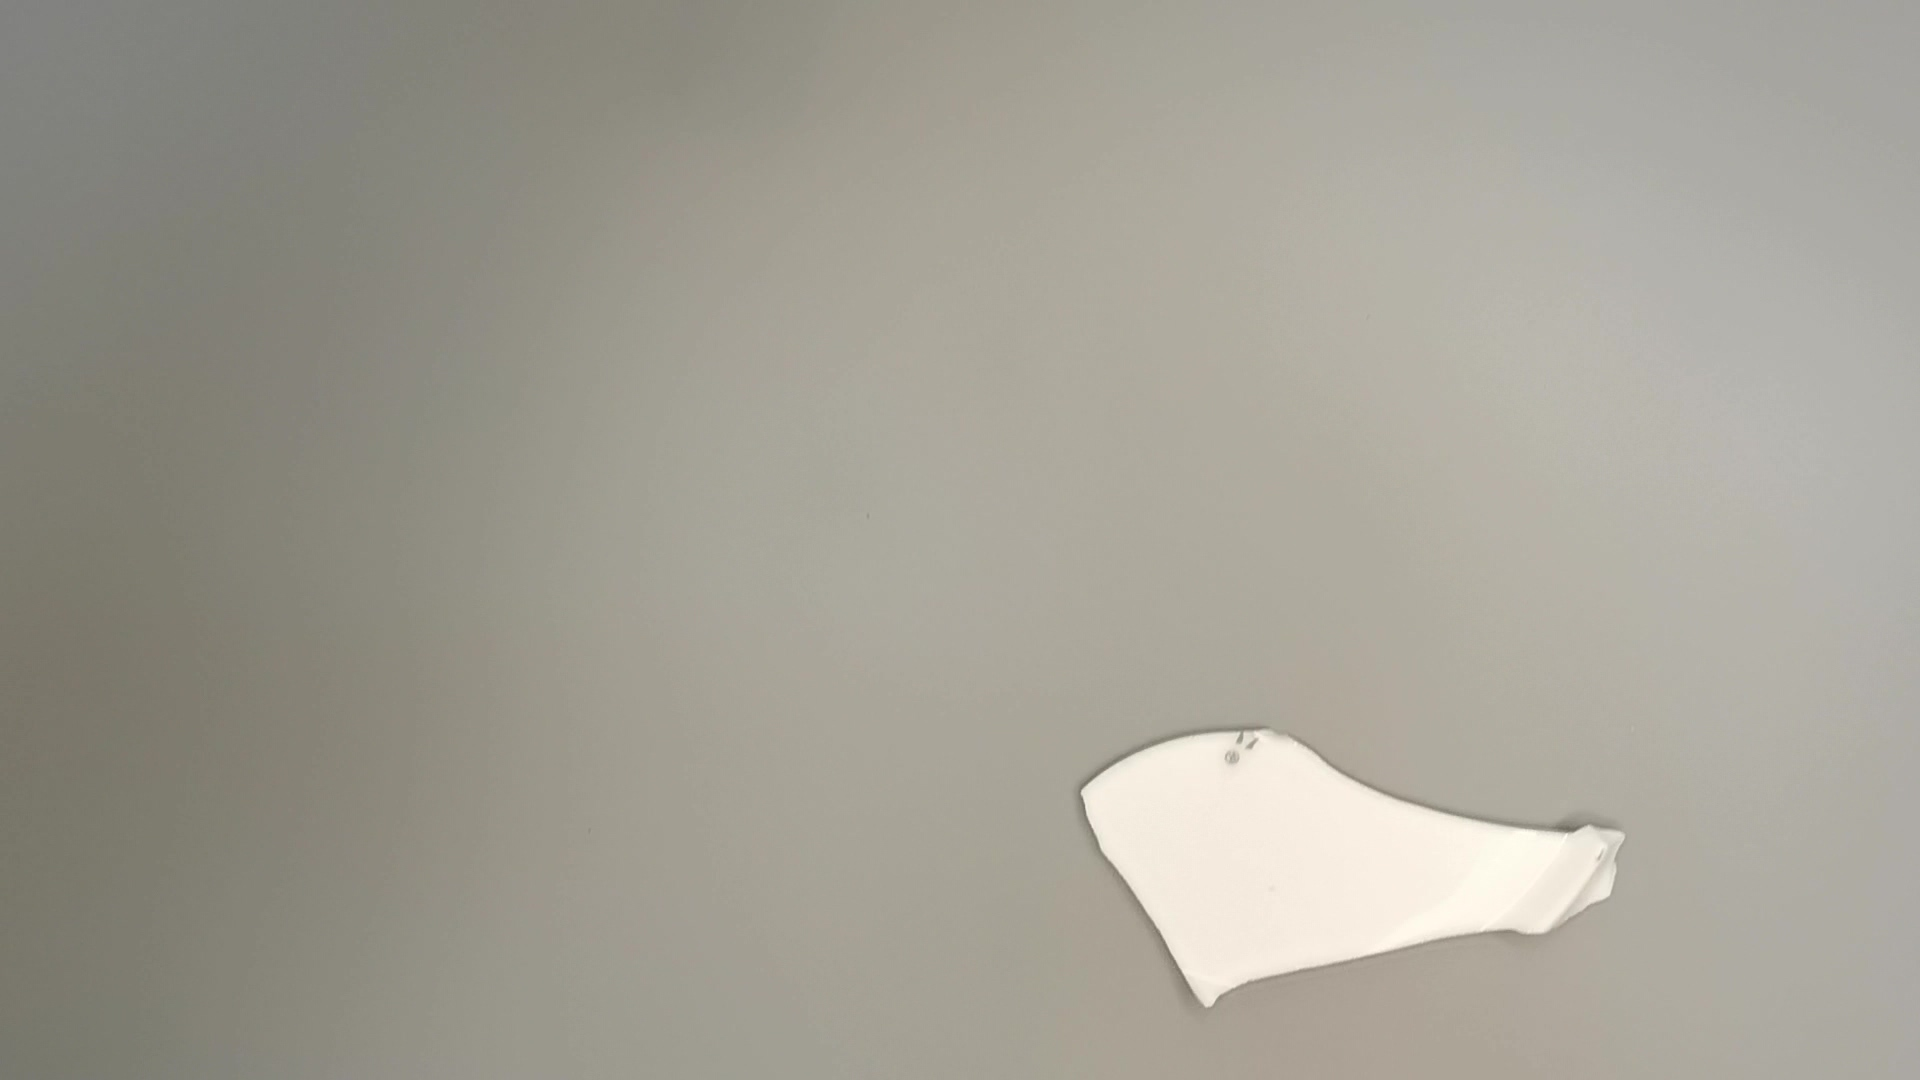ceramic: (1073, 724, 1625, 1021)
